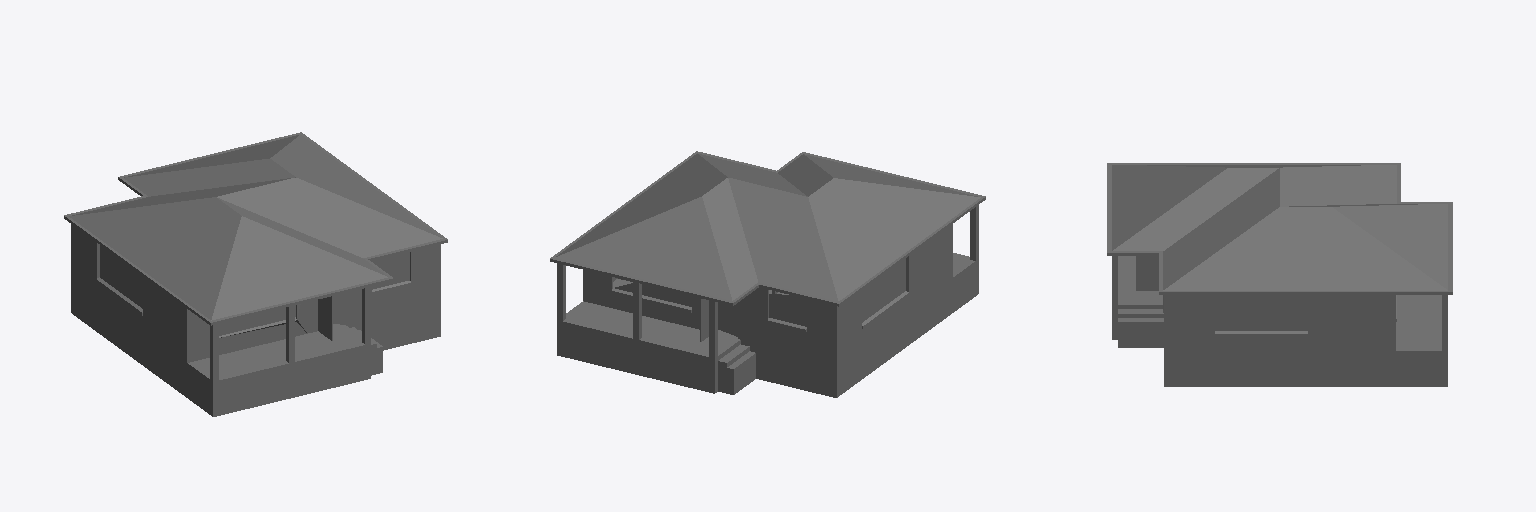
The model's file is house_y_wip2.obj.
3 renders of one model, left to right at view 1: azimuth 30°, elevation 25°; view 2: azimuth 150°, elevation 25°; view 3: azimuth 270°, elevation 25°, orthographic.
Parts seen in each view (by area): view 1: polySurface1 polySurface115, polySurface1 polySurface113, polySurface1 polySurface120, polySurface1 polySurface3, polySurface1 polySurface135, polySurface1 polySurface118, polySurface1 polySurface10, polySurface1 polySurface136, pCube5, polySurface1 polySurface27, polySurface2 polySurface1, polySurface1 polySurface117 (+10 smaller); view 2: polySurface1 polySurface115, polySurface1 polySurface119, polySurface1 polySurface116, polySurface1 polySurface32, pCube5, polySurface1 polySurface141, polySurface1 polySurface118, polySurface1 polySurface40, polySurface1 polySurface136, polySurface1 polySurface27, polySurface1 polySurface117, polySurface1 polySurface31 (+9 smaller); view 3: polySurface1 polySurface118, polySurface1 polySurface45, polySurface1 polySurface113, polySurface1 polySurface119, polySurface1 polySurface116, polySurface1 polySurface120, polySurface1 polySurface80, polySurface1 polySurface114, pCube5, polySurface1 polySurface143, polySurface1 polySurface79, polySurface1 polySurface142 (+9 smaller).
Part boxes in pixels (left/top/right/bottom): polySurface1 polySurface115: left=76, top=199, right=238, bottom=314; polySurface1 polySurface113: left=216, top=219, right=379, bottom=315; polySurface1 polySurface120: left=225, top=180, right=434, bottom=254; polySurface1 polySurface3: left=307, top=244, right=440, bottom=333; polySurface1 polySurface135: left=213, top=356, right=370, bottom=416; polySurface1 polySurface118: left=274, top=137, right=433, bottom=233; polySurface1 polySurface10: left=188, top=325, right=364, bottom=379; polySurface1 polySurface136: left=71, top=290, right=212, bottom=416; pCube5: left=100, top=245, right=409, bottom=335; polySurface1 polySurface27: left=90, top=238, right=159, bottom=353; polySurface2 polySurface1: left=187, top=302, right=306, bottom=362; polySurface1 polySurface117: left=130, top=160, right=288, bottom=194; polySurface1 polySurface115: left=811, top=180, right=973, bottom=296; polySurface1 polySurface119: left=564, top=199, right=727, bottom=295; polySurface1 polySurface116: left=732, top=182, right=833, bottom=296; polySurface1 polySurface32: left=738, top=287, right=836, bottom=374; pCube5: left=613, top=258, right=905, bottom=336; polySurface1 polySurface141: left=557, top=332, right=714, bottom=393; polySurface1 polySurface118: left=564, top=156, right=724, bottom=252; polySurface1 polySurface40: left=563, top=301, right=739, bottom=356; polySurface1 polySurface136: left=837, top=271, right=978, bottom=397; polySurface1 polySurface27: left=856, top=244, right=924, bottom=359; polySurface1 polySurface117: left=705, top=183, right=755, bottom=295; polySurface1 polySurface31: left=583, top=270, right=699, bottom=329; polySurface1 polySurface118: left=1171, top=210, right=1440, bottom=287; polySurface1 polySurface45: left=1202, top=295, right=1340, bottom=362; polySurface1 polySurface113: left=1116, top=166, right=1222, bottom=245; polySurface1 polySurface119: left=1336, top=205, right=1443, bottom=284; polySurface1 polySurface116: left=1284, top=166, right=1392, bottom=204; polySurface1 polySurface120: left=1167, top=172, right=1275, bottom=285; polySurface1 polySurface80: left=1341, top=295, right=1395, bottom=362; polySurface1 polySurface114: left=1121, top=171, right=1270, bottom=247; pCube5: left=1215, top=295, right=1307, bottom=330; polySurface1 polySurface143: left=1202, top=363, right=1340, bottom=386; polySurface1 polySurface79: left=1164, top=295, right=1201, bottom=362; polySurface1 polySurface142: left=1341, top=363, right=1447, bottom=386.
Size of the model in its own units: 12.57 by 6.27 by 14.27.